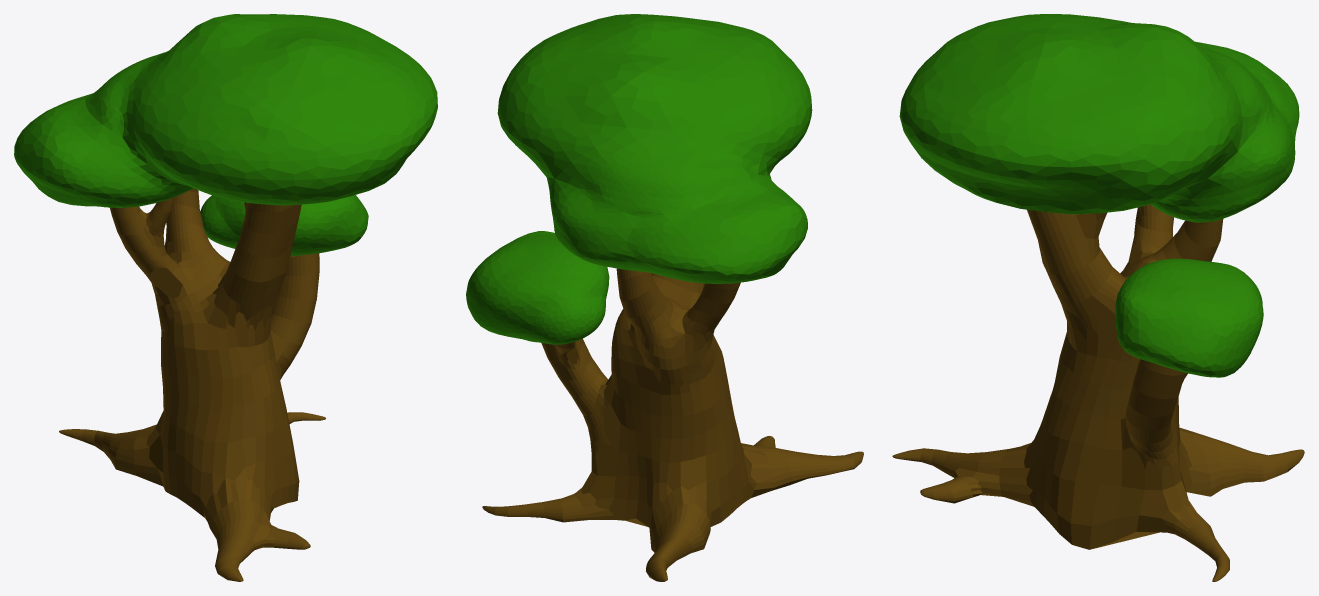
Rendered from big tree.fbx.
The picture shows the model from 3 angles, left to right: view 1: azimuth 30°, elevation 25°; view 2: azimuth 150°, elevation 25°; view 3: azimuth 270°, elevation 25°; orthographic projection. The views are drawn at different scales.
Visible parts, largest first — view 1: Icosphere.008, Cylinder.012, Icosphere.009; view 2: Icosphere.008, Cylinder.012, Icosphere.009; view 3: Icosphere.008, Cylinder.012, Icosphere.009.
Boxes of the visible parts, x1,y1,x2,y2 form: Icosphere.008: [14, 14, 437, 207]; Cylinder.012: [59, 188, 325, 581]; Icosphere.009: [200, 195, 368, 256]; Icosphere.008: [497, 14, 812, 283]; Cylinder.012: [482, 268, 863, 581]; Icosphere.009: [466, 231, 609, 344]; Icosphere.008: [899, 14, 1299, 222]; Cylinder.012: [892, 204, 1304, 581]; Icosphere.009: [1115, 258, 1263, 377].
Bounding box in the file's own units: 2277 × 3093 × 2296.
